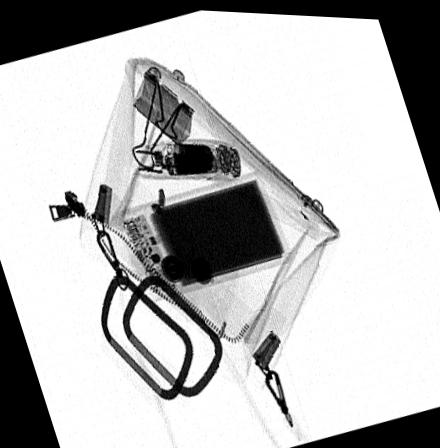Powerbank: (119, 169, 291, 303)
